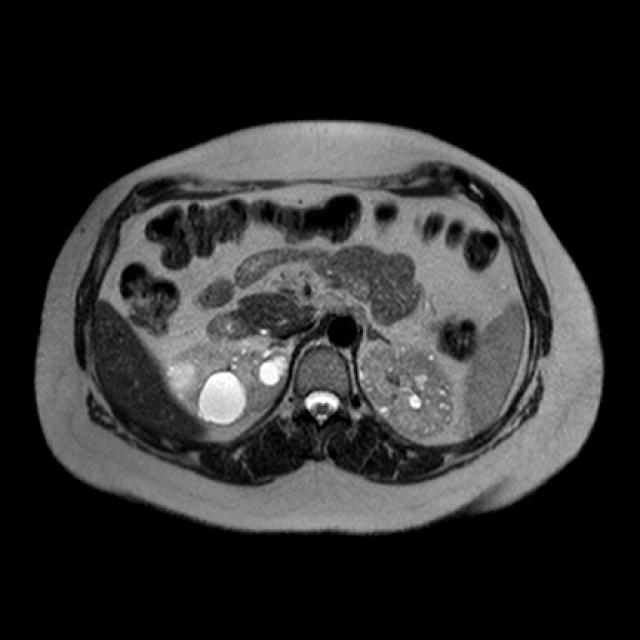sag: (166, 336, 291, 428)
sol: (359, 340, 453, 436)
